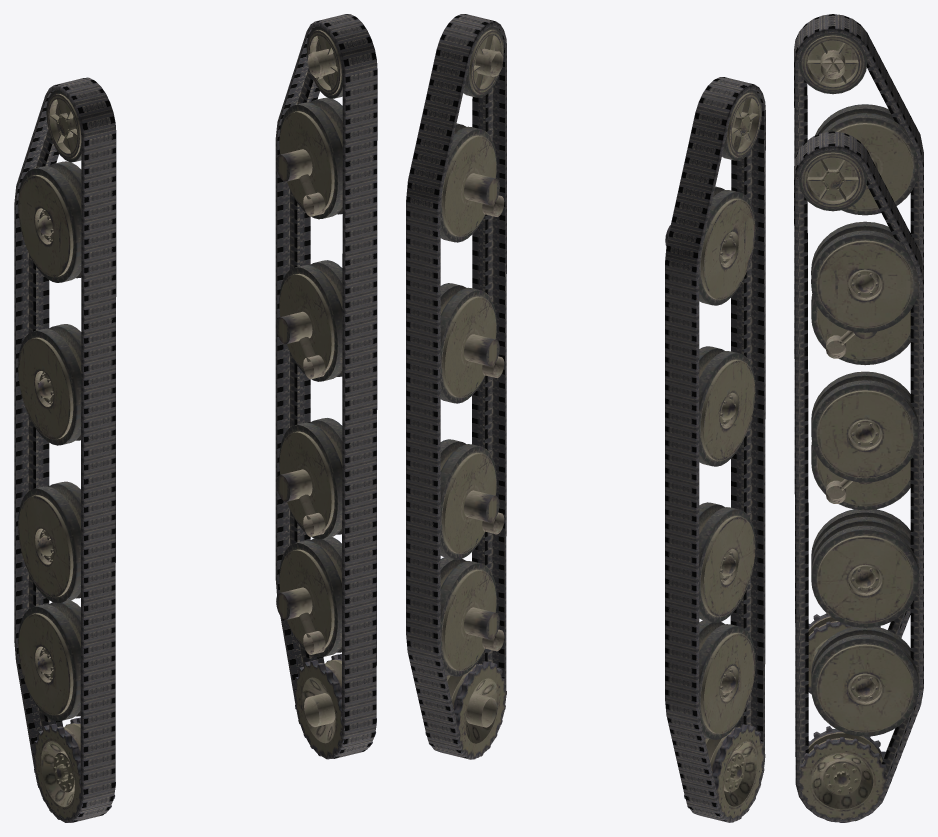
The model's file is Chassis.glb.
3 views of the same model, side by side, from view 1: azimuth 30°, elevation 25°; view 2: azimuth 150°, elevation 25°; view 3: azimuth 270°, elevation 25° (orthographic). The views are drawn at different scales.
Visible parts, largest first — view 1: set_7_group_0, set_3_group_0, set_6_group_0, set_2_group_0, set_27_group_0, set_17_group_0, set_24_group_0, set_14_group_0, set_15_group_0, set_25_group_0, set_26_group_0, set_16_group_0 (+13 smaller); view 2: set_7_group_0, set_3_group_0, set_2_group_0, set_6_group_0, set_24_group_0, set_14_group_0, set_20_group_0, set_10_group_0, set_27_group_0, set_25_group_0, set_26_group_0, set_17_group_0 (+13 smaller); view 3: set_3_group_0, set_2_group_0, set_6_group_0, set_7_group_0, set_14_group_0, set_17_group_0, set_15_group_0, set_16_group_0, set_13_group_0, set_27_group_0, set_12_group_0, set_22_group_0 (+9 smaller).
Boxes of the visible parts, x1,y1,x2,y2 form: set_7_group_0: (18,481,115,822); set_3_group_0: (276,97,376,759); set_6_group_0: (18,90,81,445); set_2_group_0: (276,26,342,657); set_27_group_0: (34,77,116,822); set_17_group_0: (295,14,377,759); set_24_group_0: (14,203,49,524); set_14_group_0: (275,139,310,460); set_15_group_0: (342,255,377,422); set_25_group_0: (81,319,115,486); set_26_group_0: (81,478,115,640); set_16_group_0: (342,415,376,576); set_7_group_0: (684,502,765,822); set_3_group_0: (425,123,506,759); set_2_group_0: (440,26,504,676); set_6_group_0: (665,89,762,466); set_24_group_0: (665,264,699,589); set_14_group_0: (406,200,440,526); set_20_group_0: (665,582,699,706); set_10_group_0: (406,518,440,642); set_27_group_0: (684,77,765,822); set_25_group_0: (731,289,765,453); set_26_group_0: (731,448,765,606); set_17_group_0: (426,14,506,759); set_3_group_0: (796,221,919,822); set_2_group_0: (798,150,919,736); set_6_group_0: (798,32,919,365); set_7_group_0: (808,442,910,688); set_14_group_0: (910,284,923,579); set_17_group_0: (794,131,887,822); set_15_group_0: (794,345,808,499); set_16_group_0: (795,492,808,640); set_13_group_0: (794,216,807,351); set_27_group_0: (794,14,867,694); set_12_group_0: (794,151,895,222); set_22_group_0: (794,33,895,105).
Size of the model in its own units: 2.51 by 5.74 by 0.9972.
Materials: 28 (28 with a texture image).
